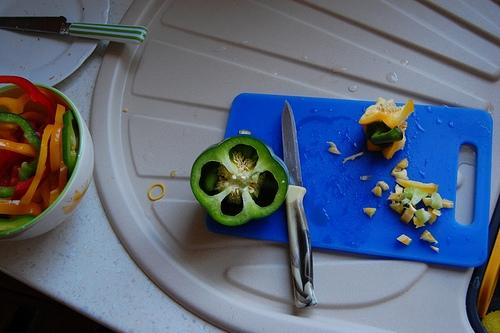bell pepper: (190, 134, 290, 226), (358, 96, 415, 160), (20, 124, 55, 206), (1, 112, 42, 182), (2, 76, 55, 123), (50, 103, 66, 172), (62, 109, 78, 172), (395, 178, 438, 197), (1, 139, 37, 159), (0, 200, 42, 217), (3, 92, 31, 115), (0, 215, 36, 232), (58, 140, 68, 194), (13, 176, 35, 200), (18, 111, 47, 126), (0, 150, 27, 162), (410, 188, 428, 205), (40, 176, 50, 205), (420, 230, 438, 245), (8, 168, 22, 186), (398, 187, 413, 202), (391, 168, 409, 180), (344, 152, 362, 164), (430, 192, 442, 210), (399, 210, 414, 224), (390, 202, 405, 215), (412, 216, 426, 229), (1, 186, 16, 198), (327, 142, 342, 154), (397, 234, 412, 245), (428, 207, 437, 225), (388, 191, 402, 202), (50, 187, 58, 206), (362, 208, 376, 218), (371, 186, 382, 197), (378, 181, 390, 191), (13, 130, 23, 142), (430, 246, 439, 252), (392, 200, 396, 204)
